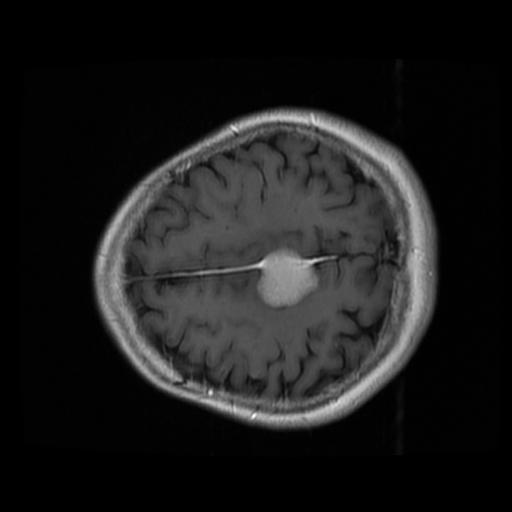meningioma: (256, 248, 318, 306)
